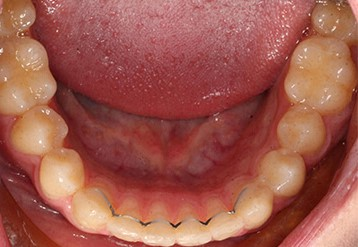LL1BC_healthy: (261, 150, 304, 194)
LL1M_healthy: (285, 39, 355, 108)
LL2BC_healthy: (278, 106, 324, 150)
LL2M_decay: (311, 2, 356, 38)
LLCI_decay: (176, 207, 211, 246)
LLC_decay: (233, 182, 272, 228)
LLLI_decay: (210, 202, 240, 240)
LR1BC_healthy: (40, 149, 84, 197)
LR1M_healthy: (1, 40, 56, 113)
LR2BC_healthy: (13, 105, 68, 153)
LR2M_decay: (1, 2, 35, 36)
LRCI_decay: (145, 203, 174, 245)
LRC_decay: (75, 188, 113, 230)
LRLI_decay: (113, 199, 145, 242)
